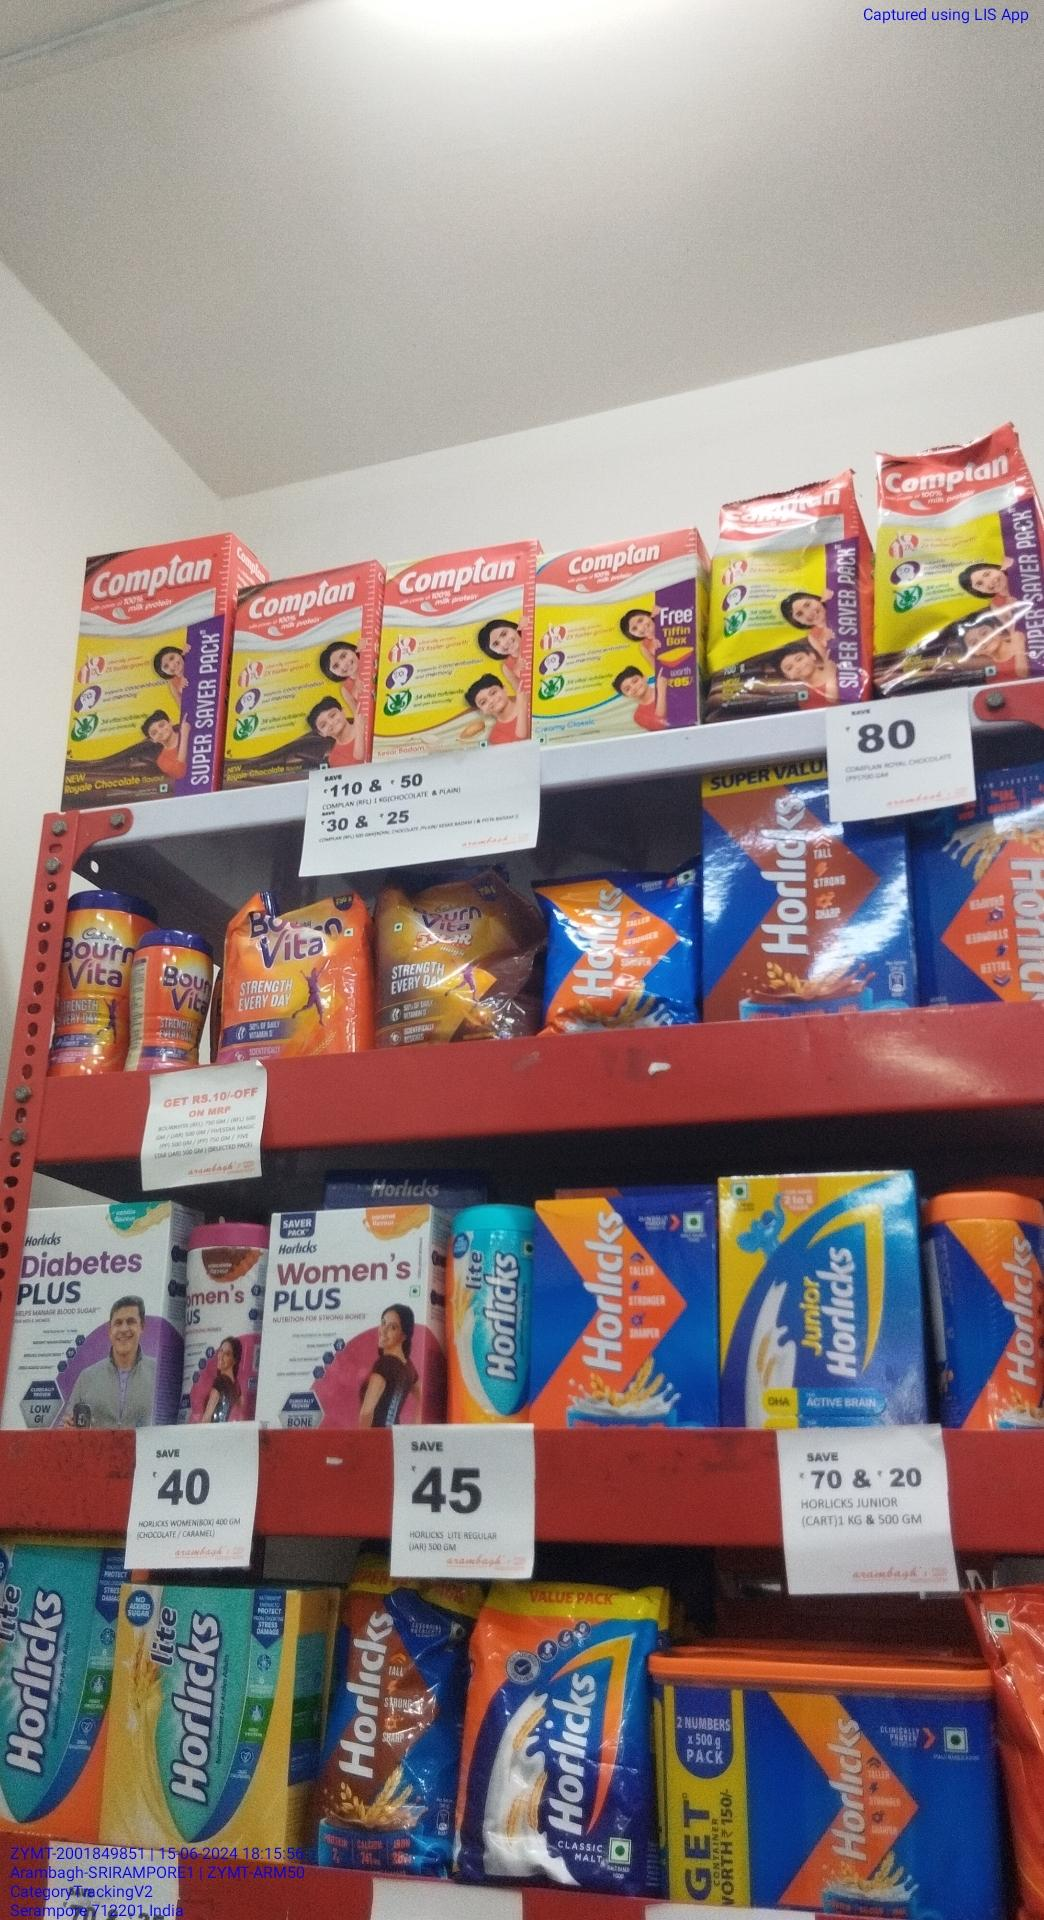BOURN_VITA_200_G_JAR: (136, 930, 212, 1072)
BOURN_VITA_500_G_JAR: (54, 892, 130, 1073)
BOURN_VITA_750_G_POUCH: (220, 897, 368, 1056)
BOURN_VITA_FIVE_STAR_MAGIC_750_G_POUCH: (373, 876, 527, 1041)
COMPLAN_CHOCOLATE_1_KG_PACK: (77, 545, 221, 794)
COMPLAN_CREAMY_CLASSIC_500_G_PACK: (535, 540, 697, 725)
COMPLAN_RC_POUCH_700_GMS_12: (870, 454, 1044, 682), (708, 484, 861, 709)
HORLICKS_LITE_REGULAR_MALT_500_GM_JAR: (445, 1200, 528, 1424)
HORLICK_CHOCOLATE_1_KG_PACK: (706, 774, 915, 1009)
HORLICK_CHOCOLATE_750_G_POUCH: (315, 1572, 449, 1862)
HORLICK_CLASSIC_MALT_500_G_JAR: (939, 1194, 1044, 1429)
HORLICK_CLASSIC_MALT_500_G_PACK: (534, 1205, 717, 1425)
HORLICK_CLASSIC_MALT_750_G_POUCH: (463, 1586, 648, 1887)
HORLICK_MALT_1_KG_CONTAINER: (656, 1658, 1005, 1920)
